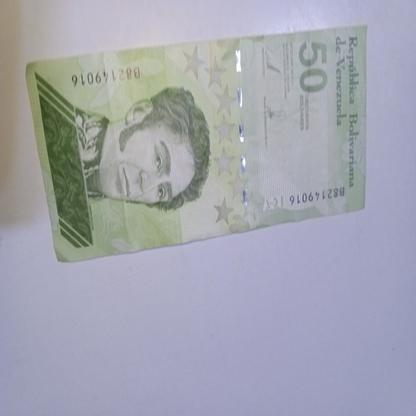fifty-front-vef: (25, 23, 367, 262)
